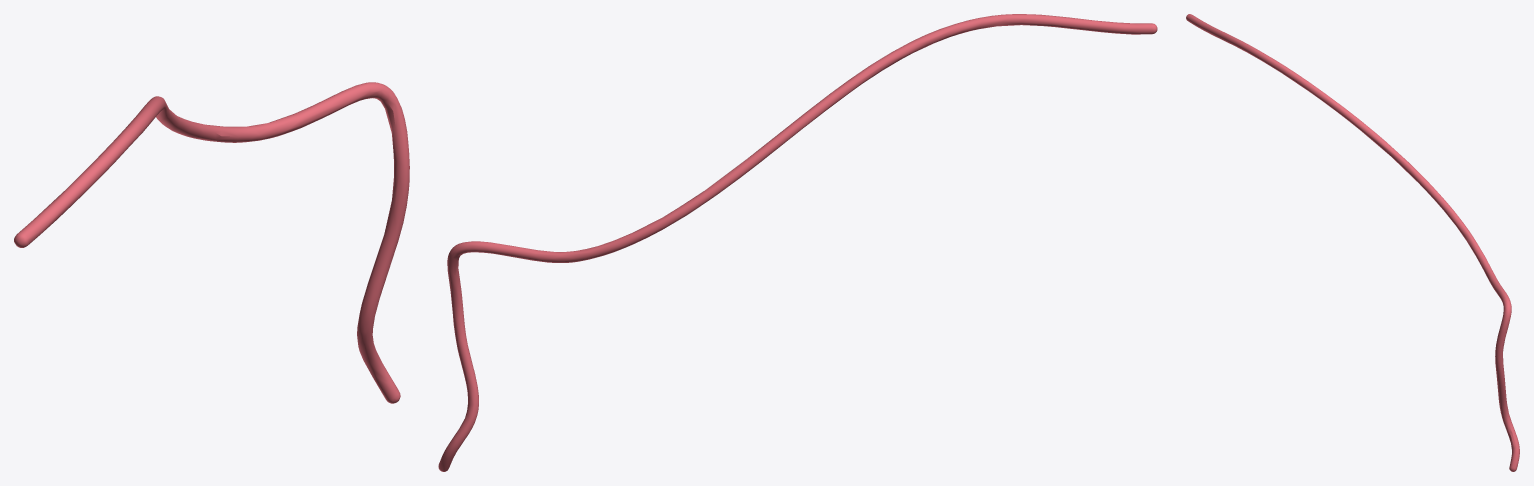
The model's file is fma50860_fj2250.glb.
The picture shows the model from 3 angles, left to right: view 1: azimuth 30°, elevation 25°; view 2: azimuth 150°, elevation 25°; view 3: azimuth 270°, elevation 25°; orthographic projection. The views are drawn at different scales.
Visible parts, largest first — view 1: FMA50860_FJ2250; view 2: FMA50860_FJ2250; view 3: FMA50860_FJ2250.
Part boxes in pixels (bbox=[...]): FMA50860_FJ2250: bbox=[14, 82, 409, 403]; FMA50860_FJ2250: bbox=[438, 14, 1157, 471]; FMA50860_FJ2250: bbox=[1186, 14, 1519, 471].
Bounding box in the file's own units: 0.0761 × 0.0608 × 0.0622.
